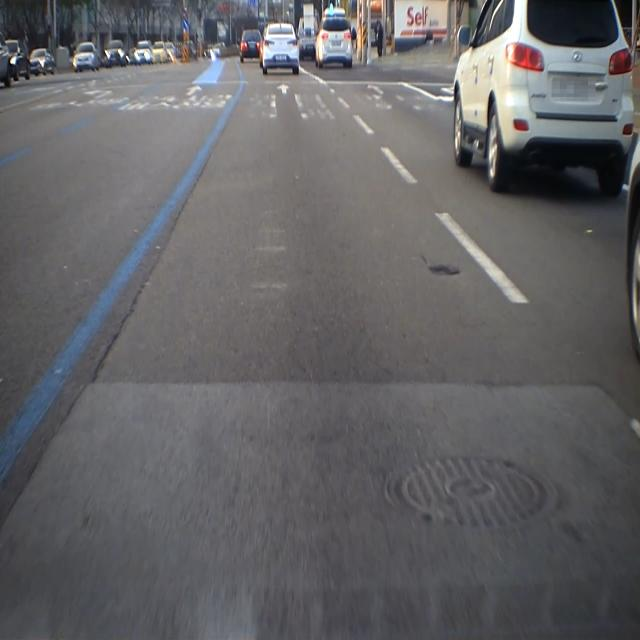Pothole: (425, 243, 464, 297)
